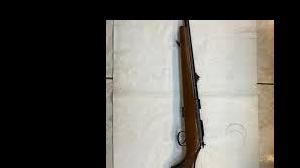larga: (171, 20, 206, 168)
